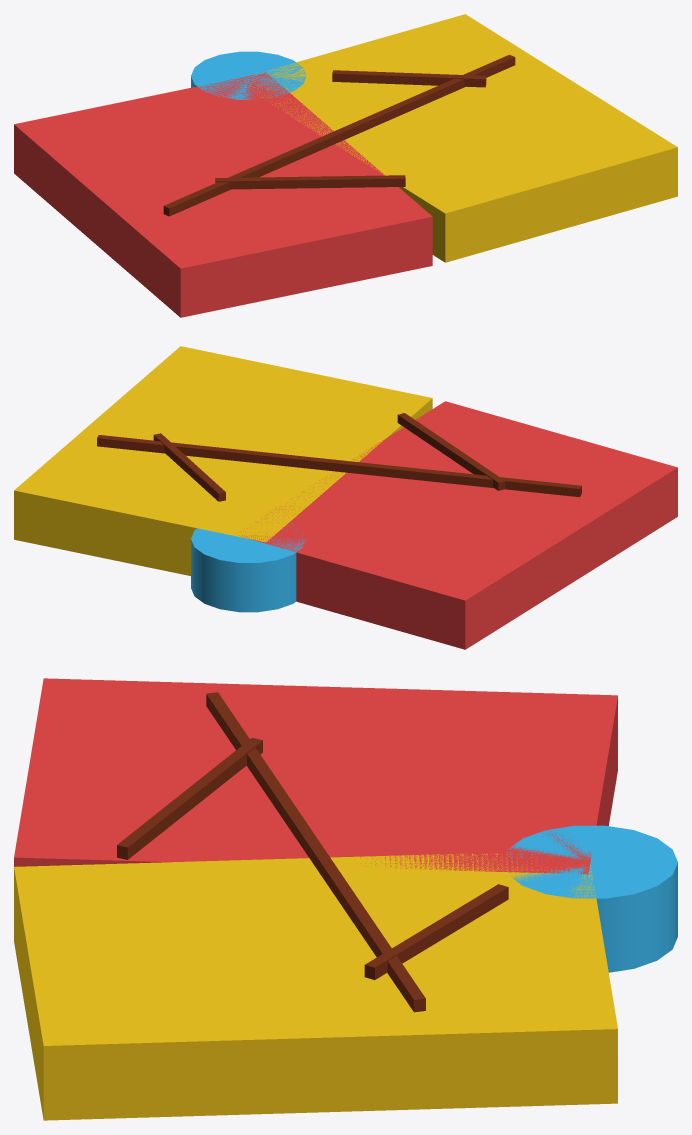
Rendered from toy_cracked_puzzle_crumble.glb.
3 renders of one model, top to bottom at view 1: azimuth 30°, elevation 25°; view 2: azimuth 150°, elevation 25°; view 3: azimuth 270°, elevation 25°, orthographic. The views are drawn at different scales.
Visible parts, largest first — view 1: solid_left_puzzle_piece, solid_right_puzzle_piece, solid_4, solid_3, solid_5, solid_6; view 2: solid_left_puzzle_piece, solid_right_puzzle_piece, solid_3, solid_4, solid_5, solid_6; view 3: solid_right_puzzle_piece, solid_left_puzzle_piece, solid_3, solid_4, solid_5, solid_6.
Part boxes in pixels (bbox=[...]): solid_left_puzzle_piece: bbox=[14, 72, 432, 317]; solid_right_puzzle_piece: bbox=[250, 14, 677, 262]; solid_4: bbox=[163, 54, 515, 216]; solid_3: bbox=[191, 51, 306, 99]; solid_5: bbox=[215, 175, 405, 189]; solid_6: bbox=[332, 70, 486, 87]; solid_left_puzzle_piece: bbox=[239, 401, 677, 649]; solid_right_puzzle_piece: bbox=[14, 346, 432, 575]; solid_3: bbox=[191, 523, 305, 612]; solid_4: bbox=[97, 435, 581, 497]; solid_5: bbox=[397, 413, 505, 490]; solid_6: bbox=[153, 433, 225, 501]; solid_right_puzzle_piece: bbox=[14, 853, 617, 1120]; solid_left_puzzle_piece: bbox=[14, 678, 617, 874]; solid_3: bbox=[506, 825, 677, 972]; solid_4: bbox=[206, 692, 425, 1012]; solid_5: bbox=[117, 738, 262, 859]; solid_6: bbox=[364, 884, 508, 979].
Size of the model in its own units: 3.17 by 0.37 by 2.42.
